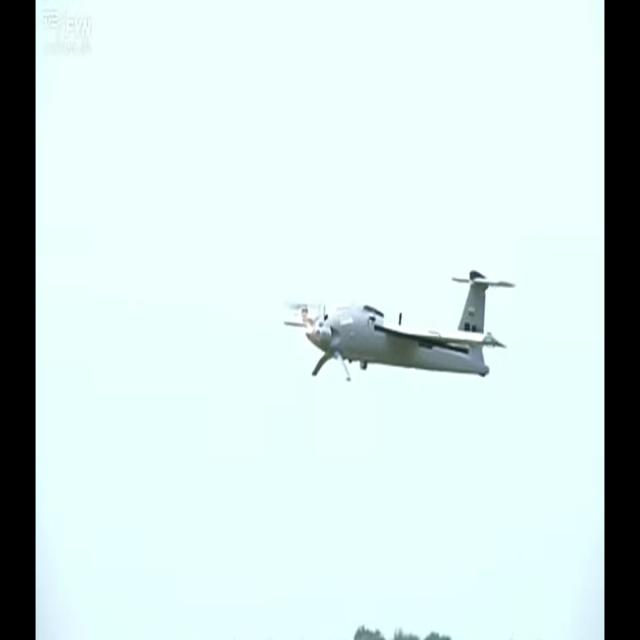iha: (283, 294, 515, 351)
